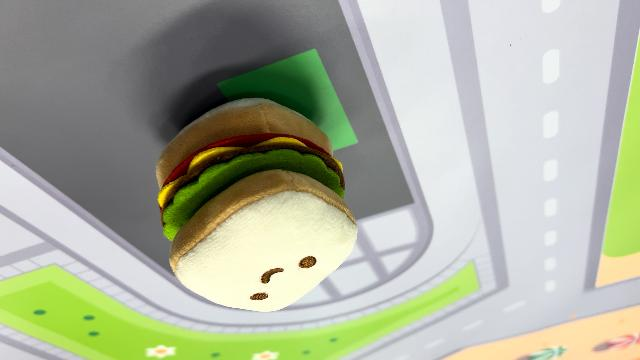sandwich: (152, 94, 360, 312)
